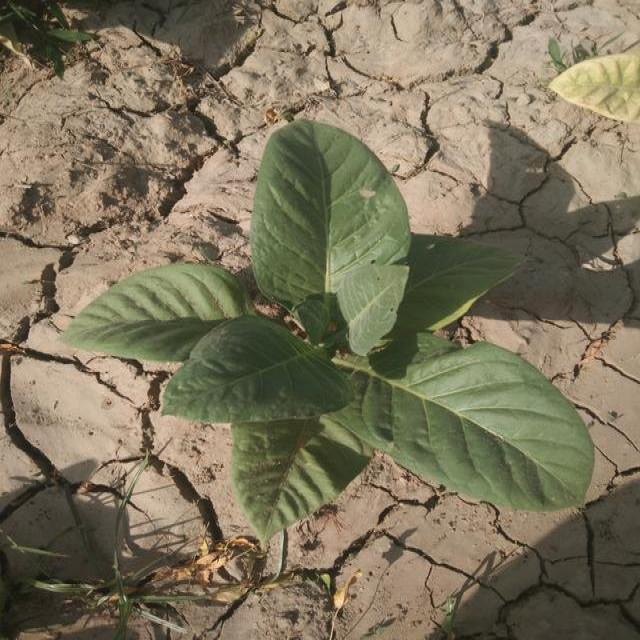crop: (63, 125, 601, 544)
